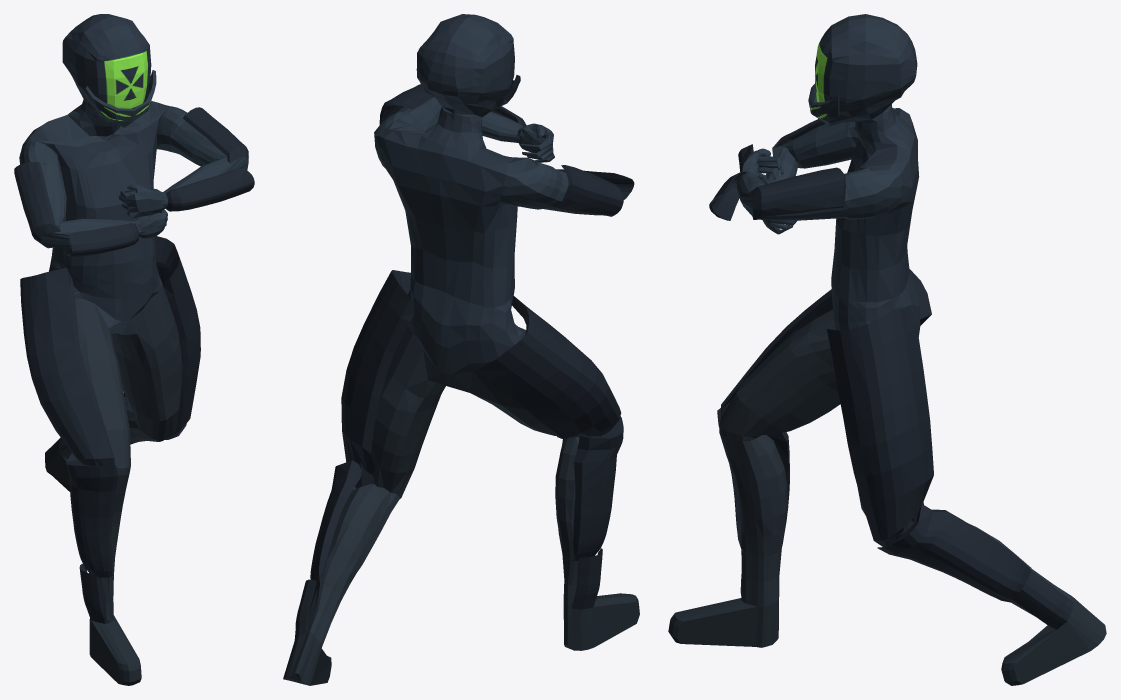
Rendered from Bastion_WL_000020.obj.
The picture shows the model from 3 angles, left to right: view 1: azimuth 30°, elevation 25°; view 2: azimuth 150°, elevation 25°; view 3: azimuth 270°, elevation 25°; orthographic projection. The views are drawn at different scales.
Visible parts, largest first — view 1: Cube.002; view 2: Cube.002; view 3: Cube.002.
Boxes of the visible parts, x1=… form: Cube.002: x1=14, y1=14, x2=254, y2=685; Cube.002: x1=283, y1=14, x2=639, y2=685; Cube.002: x1=668, y1=14, x2=1106, y2=685.
Size of the model in its own units: 1.33 by 3.58 by 2.17.
